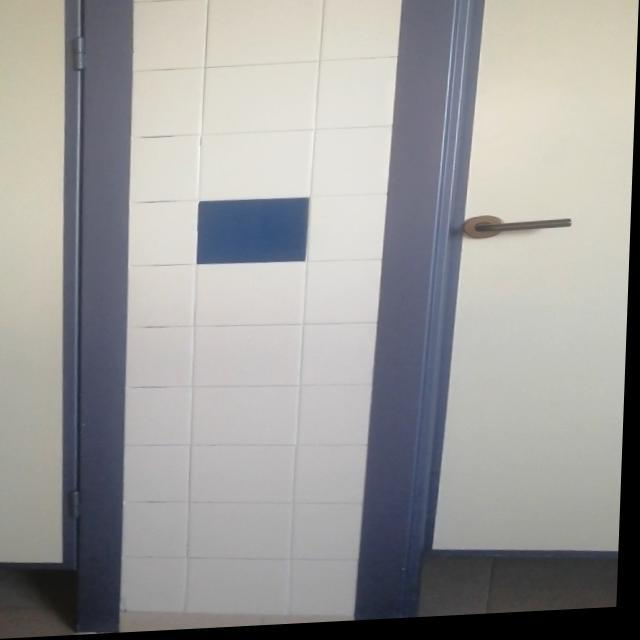door_handle: (474, 223, 579, 242)
